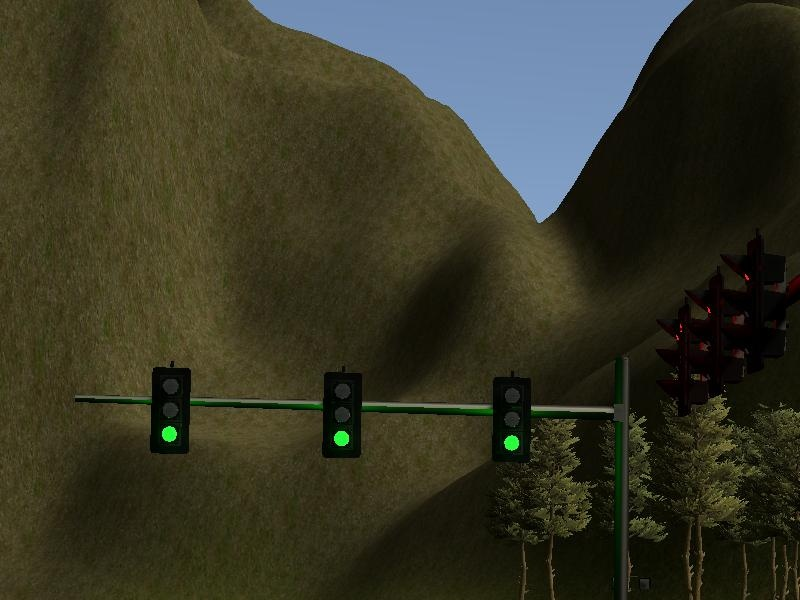green: (147, 365, 192, 455), (321, 371, 363, 459), (490, 376, 532, 463)
